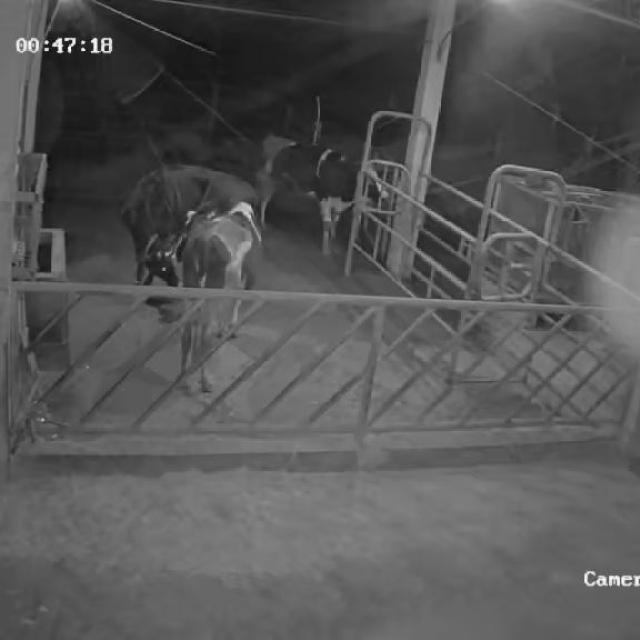standing: (125, 159, 254, 308), (162, 204, 260, 396), (259, 132, 382, 260)
